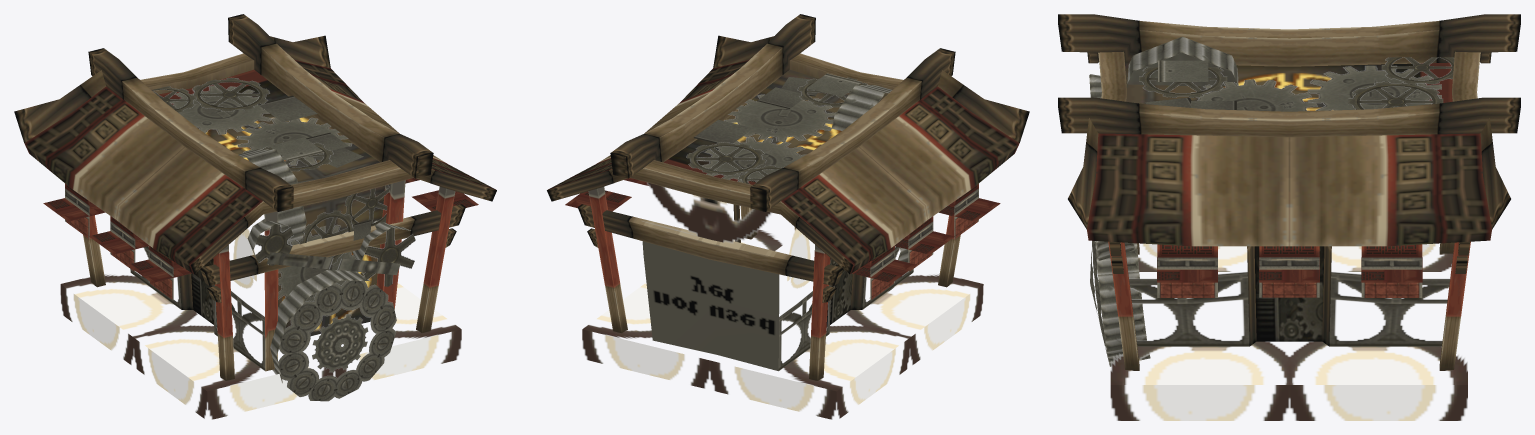
3 views of the same model, side by side, from view 1: azimuth 30°, elevation 25°; view 2: azimuth 150°, elevation 25°; view 3: azimuth 270°, elevation 25° (orthographic). The views are drawn at different scales.
Parts seen in each view (by area): view 1: Object03, building, g1, Object02, g12, g20, g4, g2, g8, g19, g18, g3 (+14 smaller); view 2: Object03, building, Object02, g20, g12, g19, g4, g13, g14, l4_glow, l6_glow, l4 (+6 smaller); view 3: Object03, building, Object02, g12, g1, g4, l2, l3, l1, g20, g19, g14 (+5 smaller).
Part boxes in pixels (x1,y1,x2,y2): Object03: (14, 14, 496, 273); building: (60, 180, 461, 419); g1: (270, 270, 396, 401); Object02: (83, 187, 465, 380); g12: (170, 85, 271, 134); g20: (236, 118, 351, 165); g4: (238, 149, 306, 245); g2: (352, 220, 415, 286); g8: (266, 252, 400, 275); g19: (192, 78, 269, 111); g18: (278, 225, 358, 301); g3: (247, 219, 293, 265); Object03: (547, 14, 1029, 274); building: (582, 182, 983, 419); Object02: (578, 187, 960, 380); g20: (724, 94, 835, 141); g12: (698, 137, 806, 182); g19: (686, 142, 766, 175); g4: (832, 85, 892, 130); g13: (693, 119, 752, 143); g14: (807, 73, 862, 96); l4_glow: (852, 259, 916, 282); l6_glow: (938, 198, 1000, 221); l4: (870, 245, 894, 300); Object03: (1058, 14, 1520, 246); building: (1110, 243, 1467, 420); Object02: (1108, 241, 1470, 370); g12: (1307, 65, 1441, 110); g1: (1090, 241, 1150, 366); g4: (1127, 36, 1238, 86); l2: (1361, 244, 1422, 297); l3: (1157, 244, 1217, 297); l1: (1259, 246, 1319, 297); g20: (1191, 79, 1317, 111); g19: (1348, 81, 1443, 109); g14: (1158, 60, 1208, 81).
Size of the model in its own units: 515 by 369 by 519.
33 materials, 33 textured.
